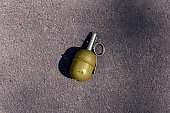e1: (68, 32, 105, 82)
